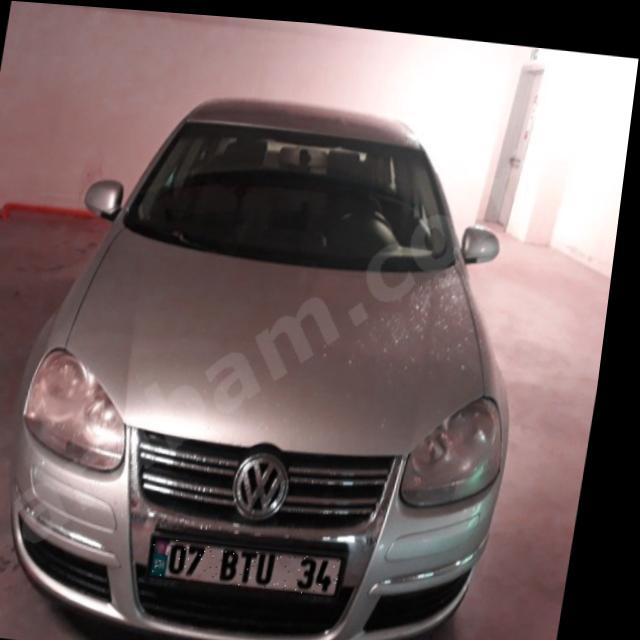license_plate: (160, 532, 357, 591)
